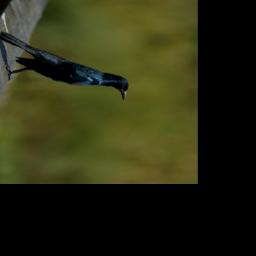Crow: (0, 30, 132, 101)
